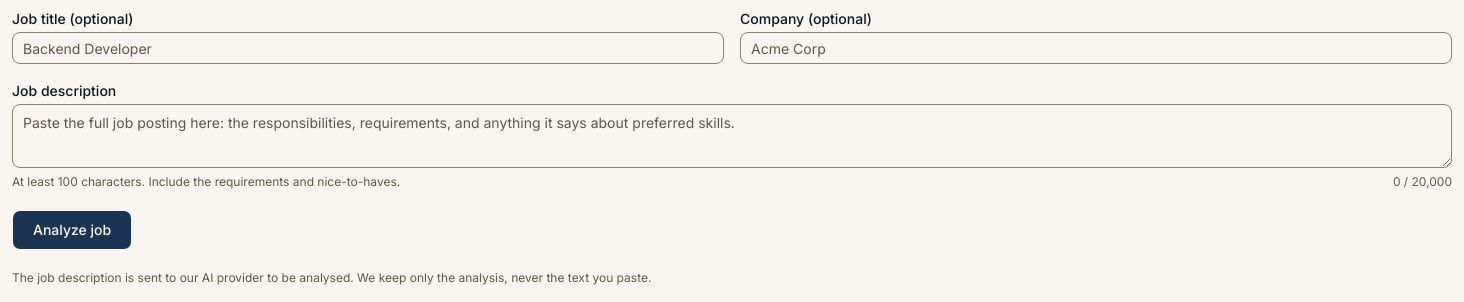
Test: TailorWorkspace form › counts characters as you type
Replace the text in the text box labelled "Job description" with "Python developer" at [732, 136], box [12,104,1452,168]
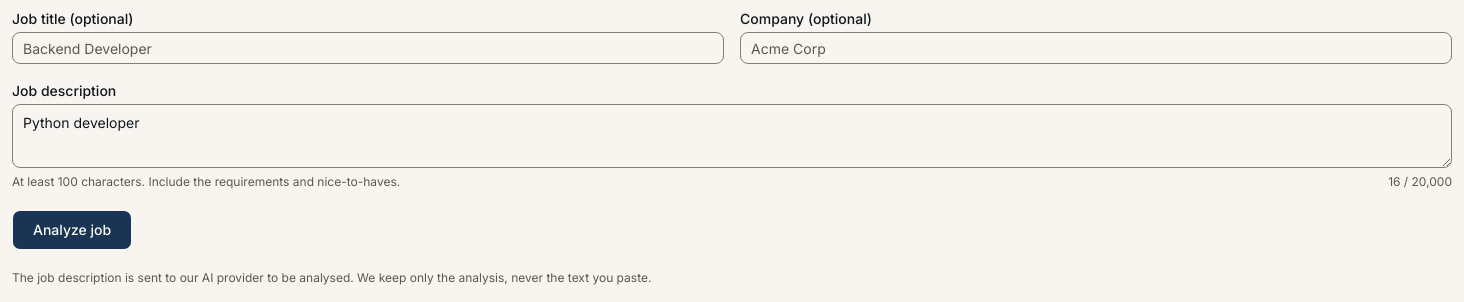
Expected: the text "16 / 20,000" is shown, [1388,174,1452,190]
